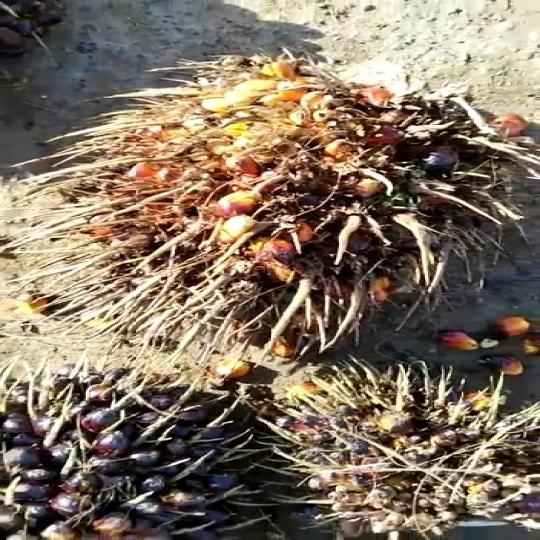terlalu masak: (13, 36, 540, 360)
